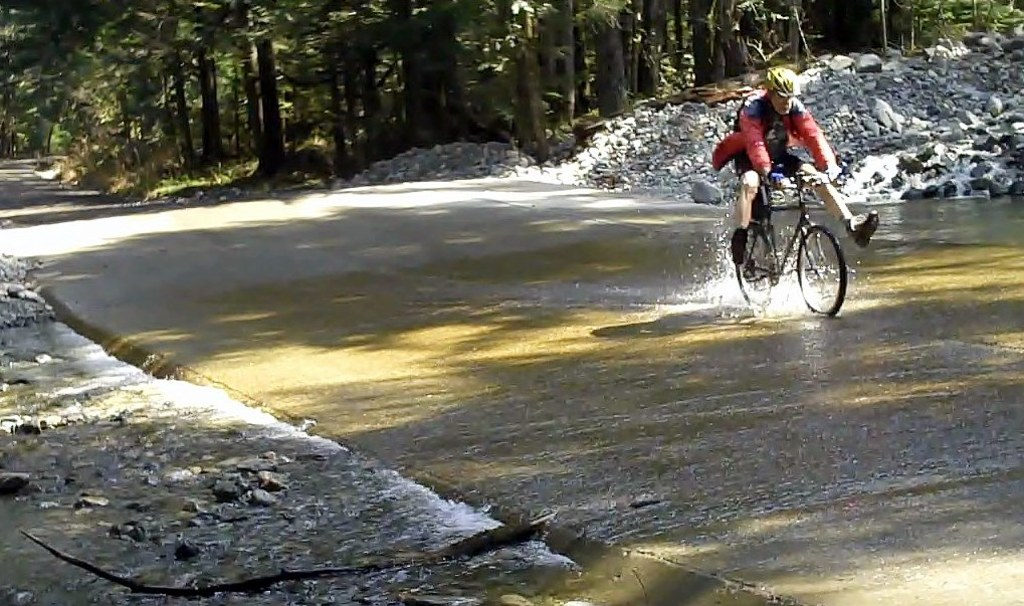Bike: (713, 177, 886, 363)
